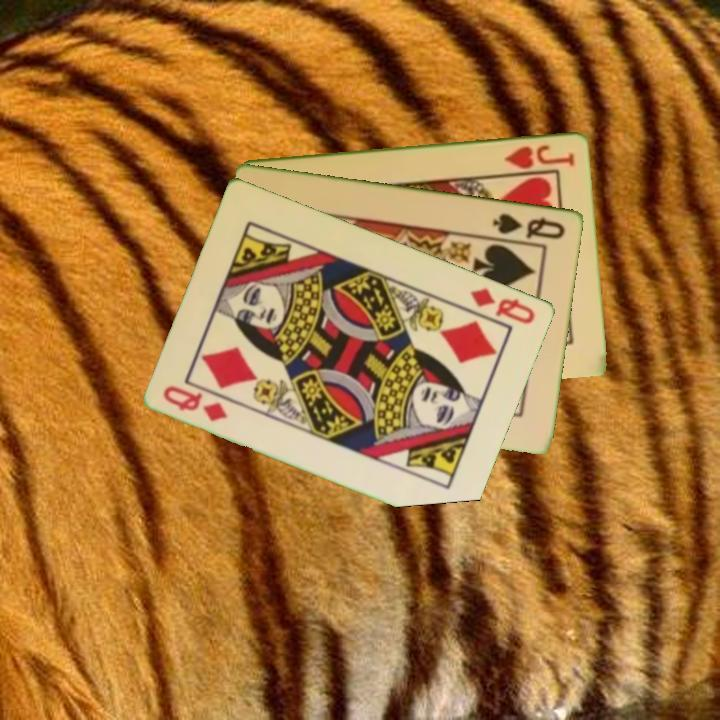Jh: (501, 141, 578, 171)
Qd: (467, 284, 539, 327), (159, 381, 231, 424)
Qs: (490, 209, 568, 242)
